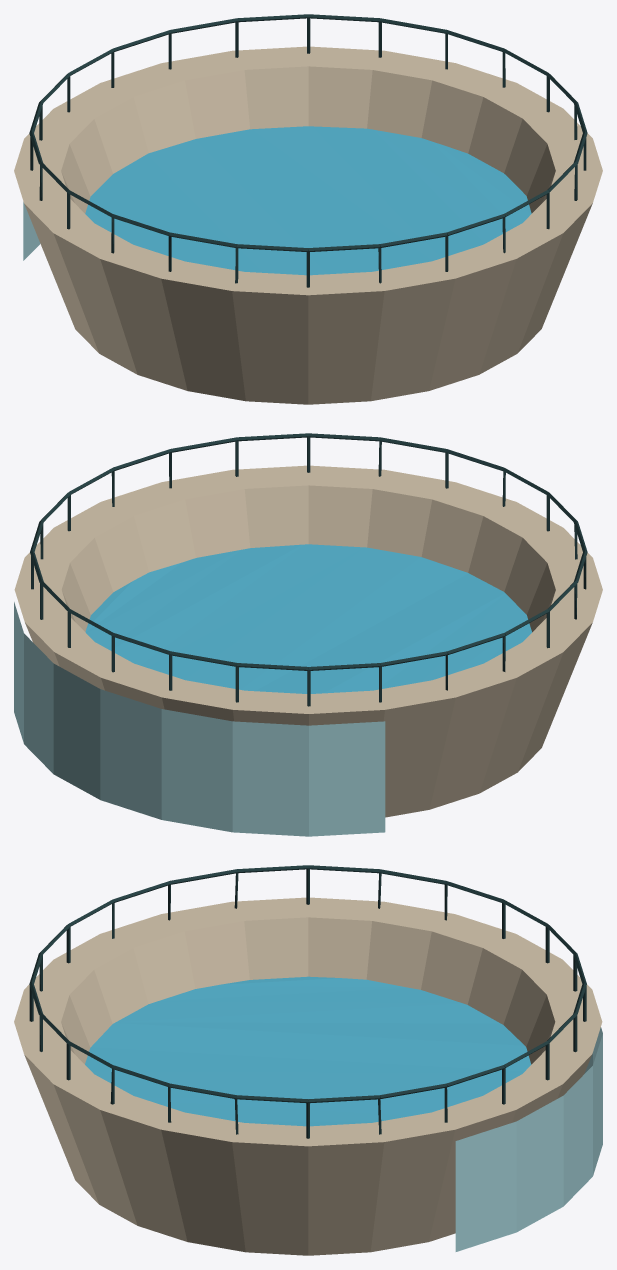
The model's file is pool_round_L.fbx.
3 renders of one model, top to bottom at view 1: azimuth 30°, elevation 25°; view 2: azimuth 150°, elevation 25°; view 3: azimuth 270°, elevation 25°, orthographic.
Parts seen in each view (by area): view 1: pool_round_L; view 2: pool_round_L; view 3: pool_round_L.
Boxes of the visible parts, bbox=[...] form: pool_round_L: bbox=[14, 14, 602, 404]; pool_round_L: bbox=[14, 433, 602, 836]; pool_round_L: bbox=[14, 865, 602, 1255].
Size of the model in its own units: 14 by 4.5 by 14.
